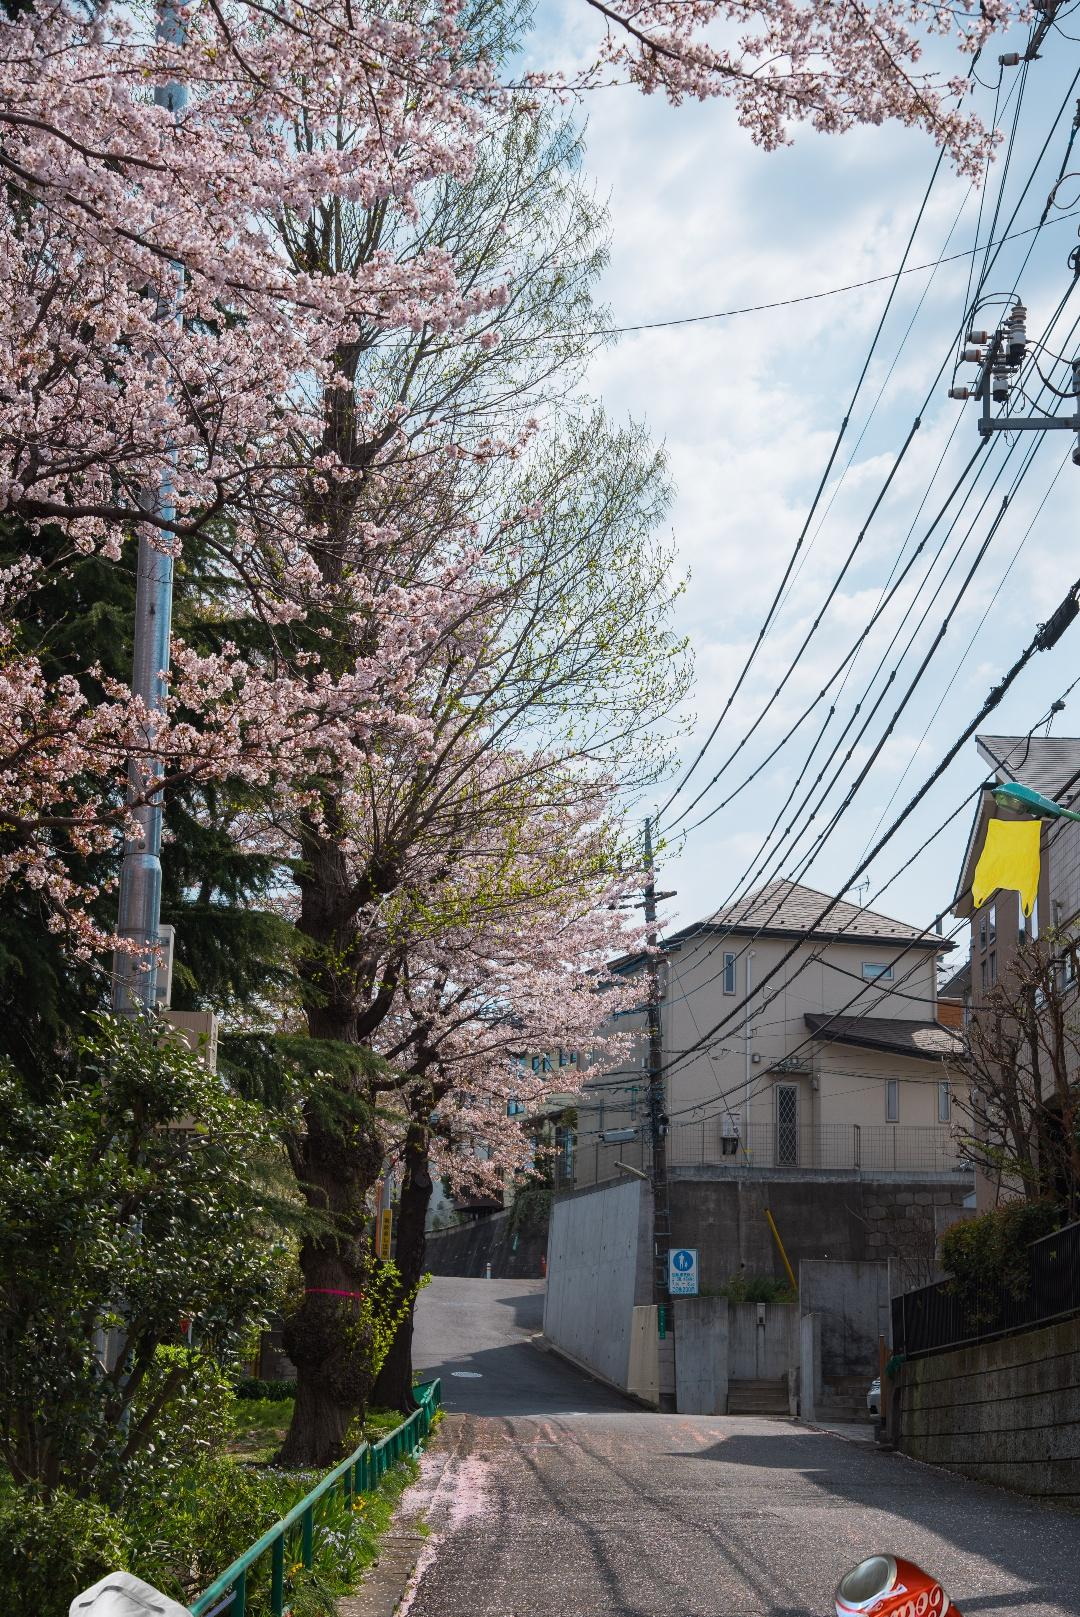metal-cans: (830, 1548, 968, 1617)
plastic-bag: (970, 815, 1045, 921)
trash: (63, 1568, 239, 1617)
